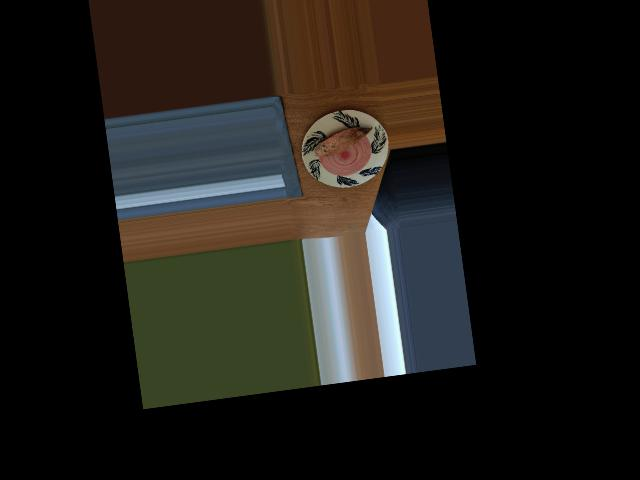sweet_potato: (313, 121, 370, 161)
